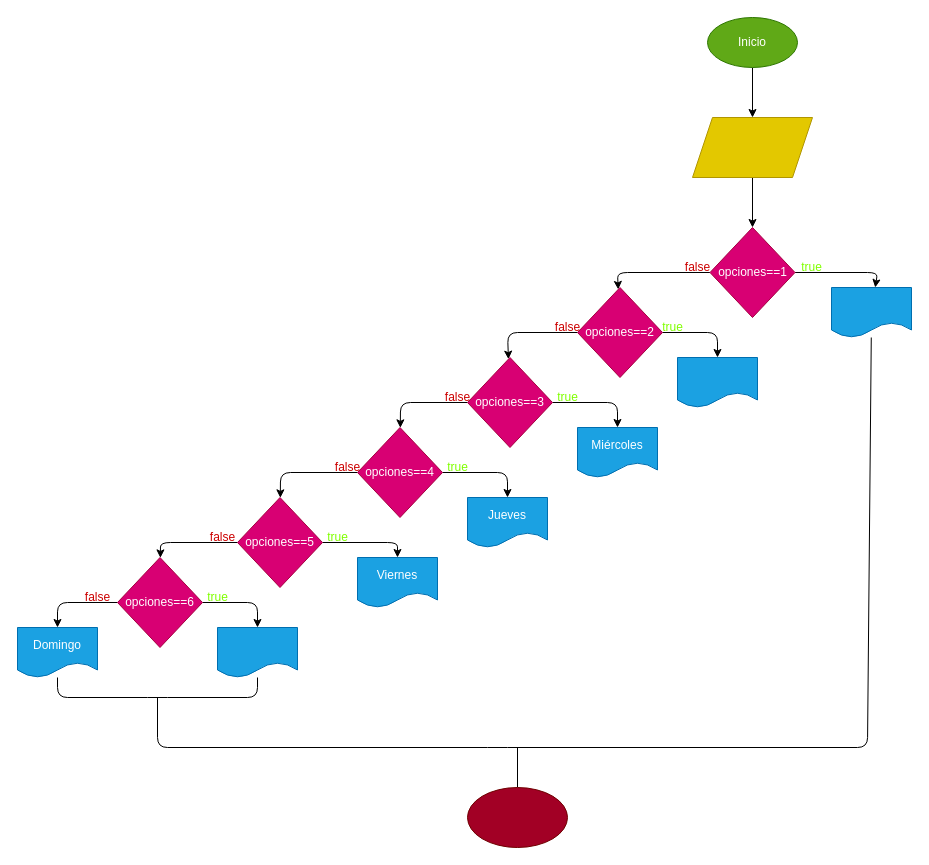
The diagram is 929 pixels wide and 865 high, and some of its shapes have lost their labels. Each missing label, with the centre of its shape:
"Fin" goes at (517,817).
"Lunes" goes at (871,312).
"Martes" goes at (717,382).
"opciones" goes at (752,147).
"Sábado" goes at (257,652).
